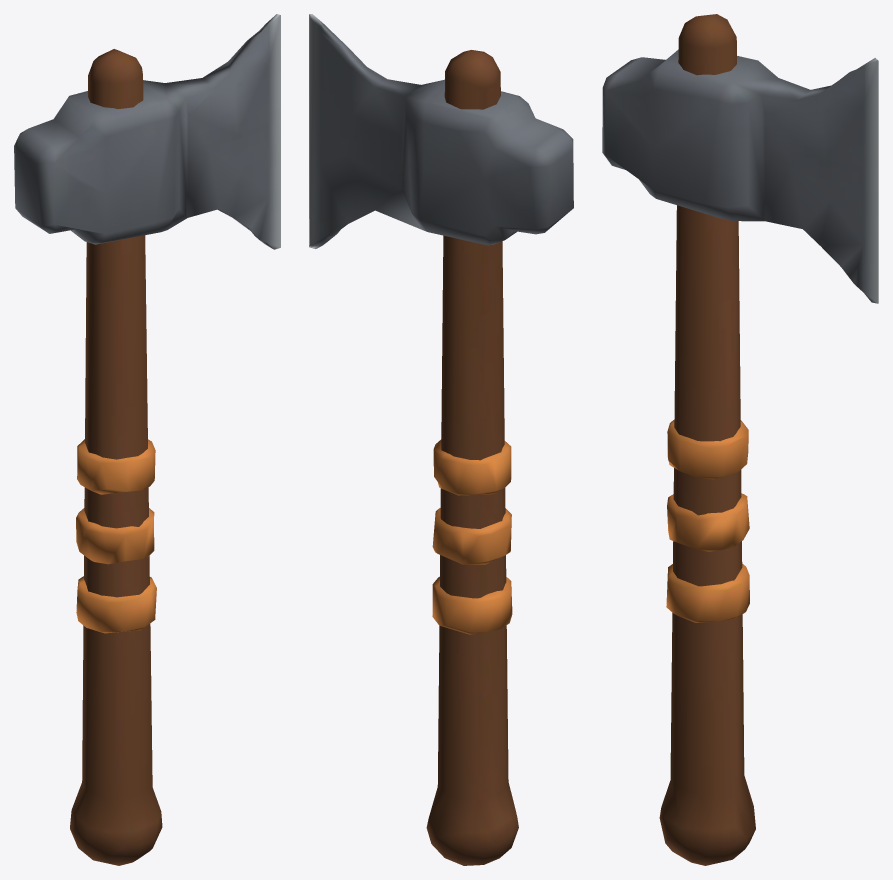
File: hand-axe.glb
3 views of the same model, side by side, from view 1: azimuth 30°, elevation 25°; view 2: azimuth 150°, elevation 25°; view 3: azimuth 330°, elevation 25° (orthographic). The views are drawn at different scales.
Parts seen in each view (by area): view 1: haft; view 2: haft; view 3: haft.
Boxes of the visible parts, x1=… form: haft: x1=14, y1=14, x2=280, y2=865; haft: x1=309, y1=14, x2=573, y2=865; haft: x1=602, y1=14, x2=878, y2=865.
Bounding box in the file's own units: 0.1551 × 0.4695 × 0.0491.
Materials: 1 (1 with a texture image).
